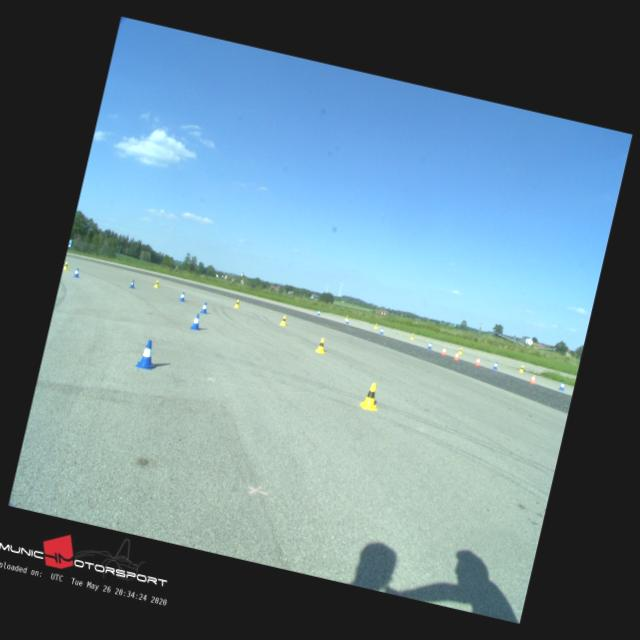blue_cone: (136, 338, 160, 370), (190, 313, 202, 329), (199, 301, 209, 313), (128, 278, 136, 288), (178, 291, 186, 301), (558, 381, 566, 390), (73, 268, 80, 278), (492, 361, 498, 369), (378, 327, 384, 334), (426, 341, 432, 348), (344, 317, 350, 323), (316, 309, 321, 315)
orange_cone: (474, 356, 480, 366), (530, 374, 536, 384), (441, 346, 447, 355), (454, 351, 459, 360)
yellow_cone: (358, 380, 382, 410), (314, 337, 326, 352), (278, 314, 288, 326), (233, 298, 240, 308), (153, 278, 159, 288), (62, 261, 68, 269), (518, 364, 524, 372), (409, 332, 414, 340), (458, 347, 463, 354), (373, 322, 377, 329), (344, 314, 348, 320)
